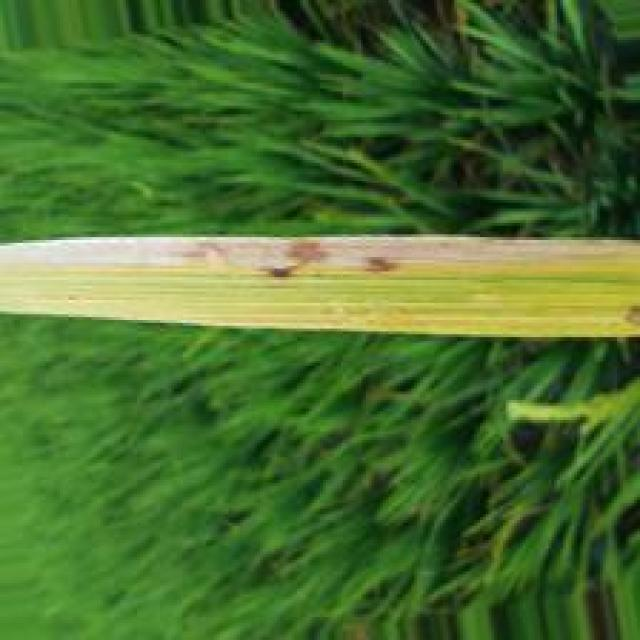Bacterial_Leaf_Blight: (5, 234, 640, 271)
